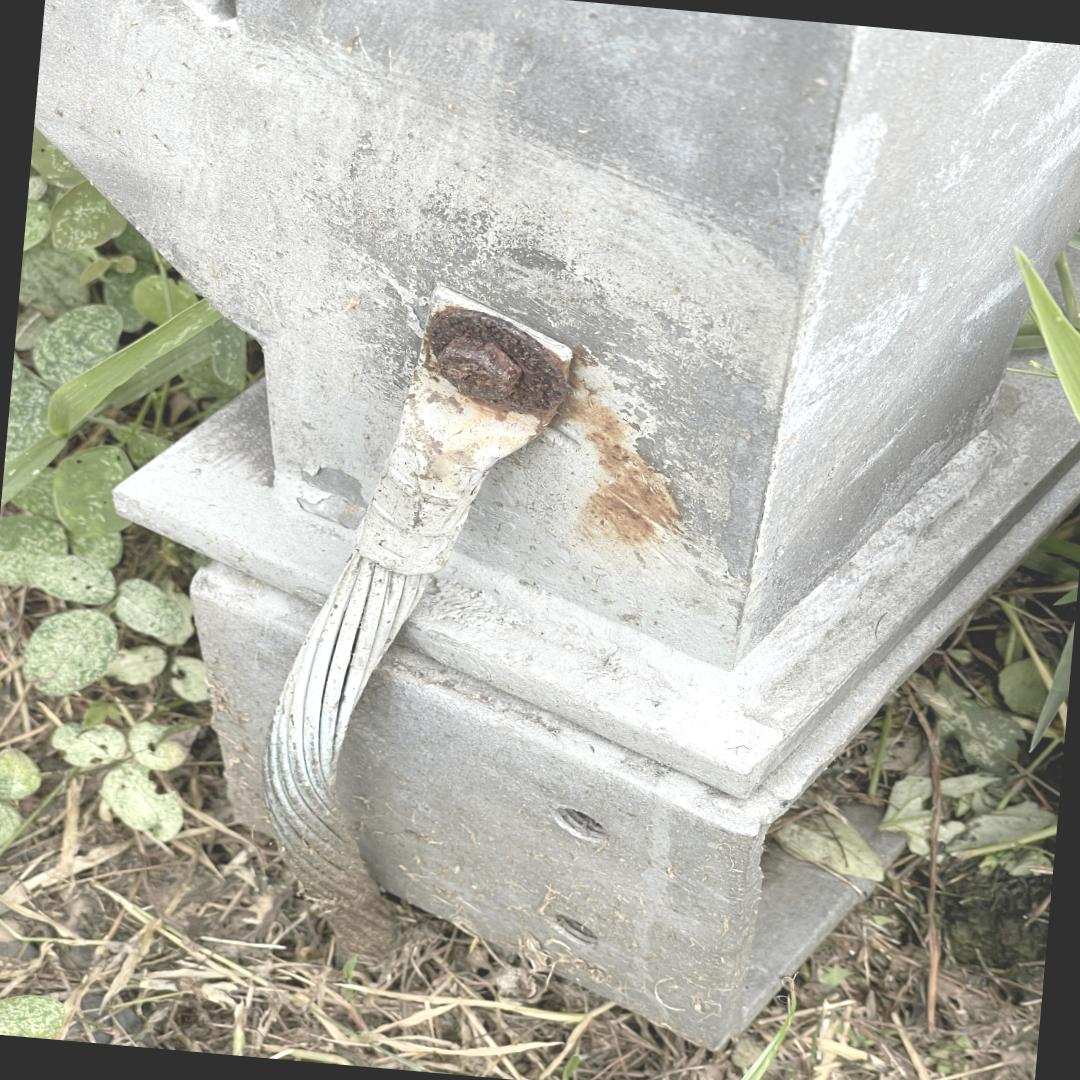Metal: (35, 0, 1080, 1047)
Metal corroido: (419, 302, 698, 554)
